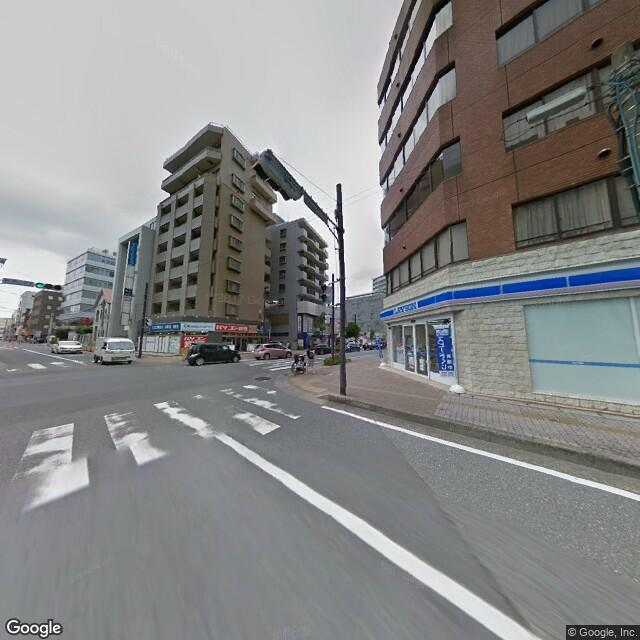lawson: (377, 258, 638, 323)
